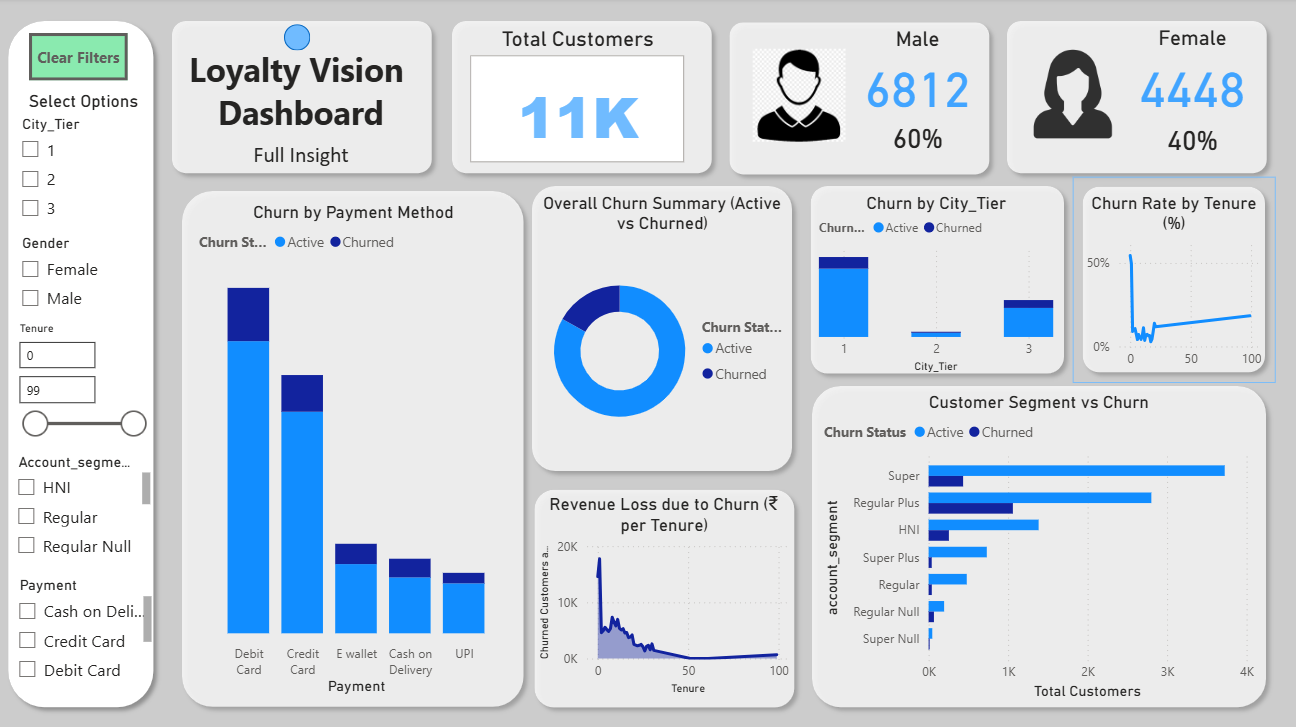

Layout of this report page (visuals, bound fields, positions):
{"tool":"powerbi","page":{"name":"Page 1","canvas":[1280,720],"ordinal":0},"visuals":[{"type":"shape","box":[0,13.7,160.5,691.6],"z":0},{"type":"shape","box":[435,13.7,273.1,167.4],"z":1000},{"type":"shape","box":[979.8,13.7,273.1,167.4],"z":2000},{"type":"shape","box":[708.1,15.1,273.1,167.4],"z":3000},{"type":"shape","box":[160.5,13.7,273.1,167.4],"z":4000},{"type":"shape","box":[170,180,353.3,524.4],"z":5000},{"type":"shape","box":[514.4,175.6,273.3,297.8],"z":6000},{"type":"shape","box":[516,473.4,273.1,231.9],"z":7000},{"type":"shape","box":[787.8,175.6,266.7,202.2],"z":8000},{"type":"shape","box":[1054.4,175.6,198.9,202.2],"z":9000},{"type":"shape","box":[789,371.9,463.8,333.4],"z":10000},{"type":"textbox","box":[170,42.9,251.4,102.9],"z":11000},{"type":"textbox","box":[170.6,136.2,251.5,46.6],"z":12000},{"type":"shape","box":[280,25.8,25.8,25.8],"z":13000},{"type":"cardVisual","title":"Total Customers","fields":{"Data":["Total.Total Customers"]},"box":[457.7,28.2,220.9,138.7],"z":14000},{"type":"card","title":"Male","fields":{"Values":["Total.Male"]},"box":[836.7,27.8,130,90],"z":15000},{"type":"card","title":"Female","fields":{"Values":["Total.Female"]},"box":[1106.7,26.7,130,91.1],"z":16000},{"type":"card","title":"Male","fields":{"Values":["Total.% male"]},"box":[860,112.1,83.7,49.7],"z":17000},{"type":"card","title":"Male","fields":{"Values":["Total.% female"]},"box":[1125.6,105.6,93.3,65.6],"z":18000},{"type":"image","box":[984.4,44.4,140,100],"z":19000},{"type":"image","box":[735.6,27.8,101.1,134.4],"z":20000},{"type":"columnChart","title":"Churn by Payment Method","fields":{"Category":["LoyaltyVision Analytics_cleandata.Payment"],"Y":["CountNonNull(LoyaltyVision Analytics_cleandata.AccountID)"],"Series":["LoyaltyVision Analytics_cleandata.Churn Status"]},"box":[191.4,200,312.9,488.3],"z":21000},{"type":"columnChart","title":"Churn by City_Tier","fields":{"Category":["LoyaltyVision Analytics_cleandata.City_Tier"],"Y":["CountNonNull(LoyaltyVision Analytics_cleandata.AccountID)"],"Series":["LoyaltyVision Analytics_cleandata.Churn Status"]},"box":[800,191.1,240,181.1],"z":22000},{"type":"lineChart","title":"Churn Rate by Tenure (%)","fields":{"Y":["LoyaltyVision Analytics_cleandata.Churn Rate %"],"Category":["LoyaltyVision Analytics_cleandata.Tenure"]},"box":[1062.5,190.8,181.7,180.8],"z":23000},{"type":"areaChart","title":"Revenue Loss due to Churn         (₹ per Tenure)","fields":{"Y":["LoyaltyVision Analytics_cleandata.Churned Customers","Sum(LoyaltyVision Analytics_cleandata.rev_per_month)"],"Category":["LoyaltyVision Analytics_cleandata.Tenure"]},"box":[525.2,485.9,255.2,202.5],"z":24000},{"type":"clusteredBarChart","title":"Customer Segment vs Churn","fields":{"Y":["Total.Total Customers"],"Category":["LoyaltyVision Analytics_cleandata.account_segment"],"Series":["LoyaltyVision Analytics_cleandata.Churn Status"]},"box":[804.9,386.5,431.9,306.8],"z":25000},{"type":"donutChart","title":"Overall Churn Summary (Active vs Churned)","fields":{"Category":["LoyaltyVision Analytics_cleandata.Churn Status"],"Y":["Total.Total Customers"]},"box":[523.9,191.4,254,272.4],"z":26000},{"type":"slicer","title":"Select Options","fields":{"Values":["LoyaltyVision Analytics_cleandata.City_Tier"]},"box":[9.8,90.8,146,139.9],"z":27000},{"type":"slicer","fields":{"Values":["LoyaltyVision Analytics_cleandata.Gender"]},"box":[9.8,227,143.6,93.3],"z":28000},{"type":"slicer","fields":{"Values":["LoyaltyVision Analytics_cleandata.account_segment"]},"box":[6.1,441.7,147.2,109.2],"z":29000},{"type":"slicer","fields":{"Values":["LoyaltyVision Analytics_cleandata.Tenure"]},"box":[7.4,312.9,146,130.1],"z":30000},{"type":"slicer","fields":{"Values":["LoyaltyVision Analytics_cleandata.Payment"]},"box":[7.4,563.2,147.2,110.4],"z":31000},{"type":"actionButton","box":[29.4,34.4,96.9,46.6],"z":31001}]}

Visuals, with their boxes in screenshot pixels (x1, y1, x2, y2), scaled from the page's 1280x720 canvas onto the 1296x727 screenshot:
shape: x1=0 y1=14 x2=163 y2=712
shape: x1=440 y1=14 x2=717 y2=183
shape: x1=992 y1=14 x2=1269 y2=183
shape: x1=717 y1=15 x2=993 y2=184
shape: x1=163 y1=14 x2=439 y2=183
shape: x1=172 y1=182 x2=530 y2=711
shape: x1=521 y1=177 x2=798 y2=478
shape: x1=522 y1=478 x2=799 y2=712
shape: x1=798 y1=177 x2=1068 y2=381
shape: x1=1068 y1=177 x2=1269 y2=381
shape: x1=799 y1=376 x2=1268 y2=712
textbox: x1=172 y1=43 x2=427 y2=147
textbox: x1=173 y1=138 x2=427 y2=185
shape: x1=284 y1=26 x2=310 y2=52
"Total Customers" cardVisual: x1=463 y1=28 x2=687 y2=169
"Male" card: x1=847 y1=28 x2=979 y2=119
"Female" card: x1=1121 y1=27 x2=1252 y2=119
"Male" card: x1=871 y1=113 x2=955 y2=163
"Male" card: x1=1140 y1=107 x2=1234 y2=173
image: x1=997 y1=45 x2=1138 y2=146
image: x1=745 y1=28 x2=847 y2=164
"Churn by Payment Method" columnChart: x1=194 y1=202 x2=511 y2=695
"Churn by City_Tier" columnChart: x1=810 y1=193 x2=1053 y2=376
"Churn Rate by Tenure (%)" lineChart: x1=1076 y1=193 x2=1260 y2=375
"Revenue Loss due to Churn         (₹ per Tenure)" areaChart: x1=532 y1=491 x2=790 y2=695
"Customer Segment vs Churn" clusteredBarChart: x1=815 y1=390 x2=1252 y2=700
"Overall Churn Summary (Active vs Churned)" donutChart: x1=530 y1=193 x2=788 y2=468
"Select Options" slicer: x1=10 y1=92 x2=158 y2=233
slicer - LoyaltyVision Analytics_cleandata.Gender: x1=10 y1=229 x2=155 y2=323
slicer - LoyaltyVision Analytics_cleandata.account_segment: x1=6 y1=446 x2=155 y2=556
slicer - LoyaltyVision Analytics_cleandata.Tenure: x1=7 y1=316 x2=155 y2=447
slicer - LoyaltyVision Analytics_cleandata.Payment: x1=7 y1=569 x2=157 y2=680
actionButton: x1=30 y1=35 x2=128 y2=82
